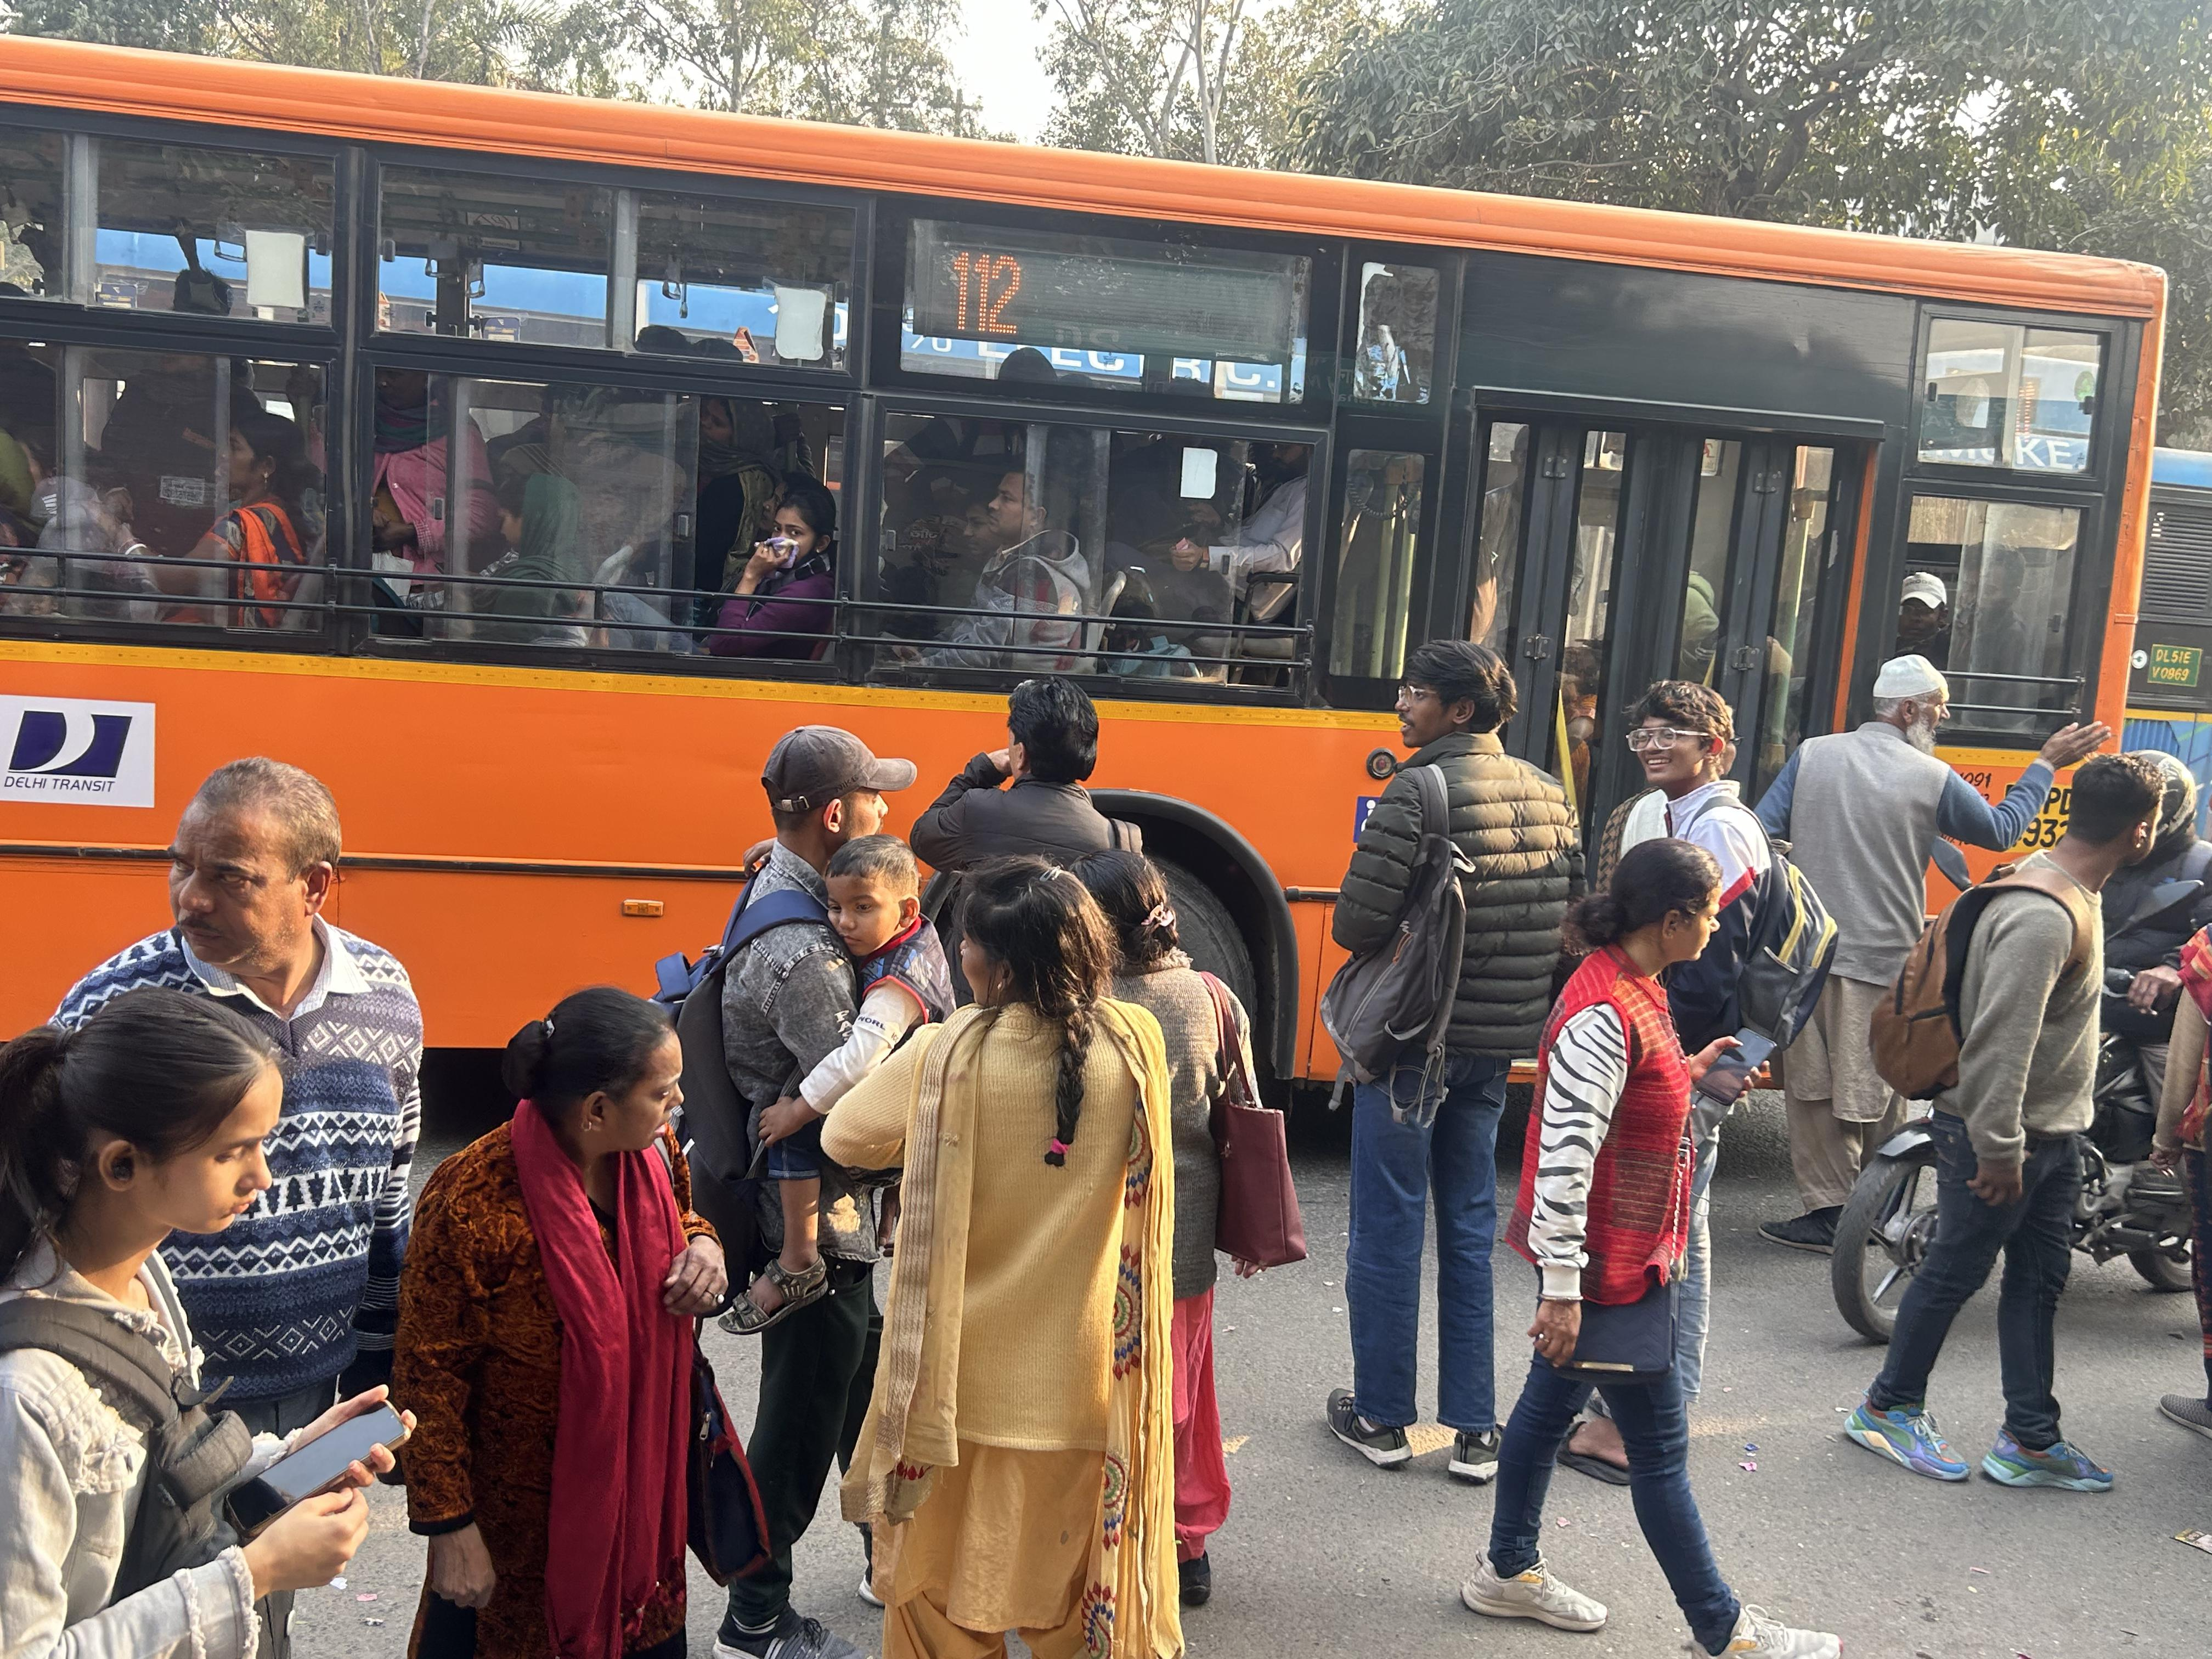Bus: (10, 38, 2195, 1234)
Display Board: (883, 164, 1350, 383)
